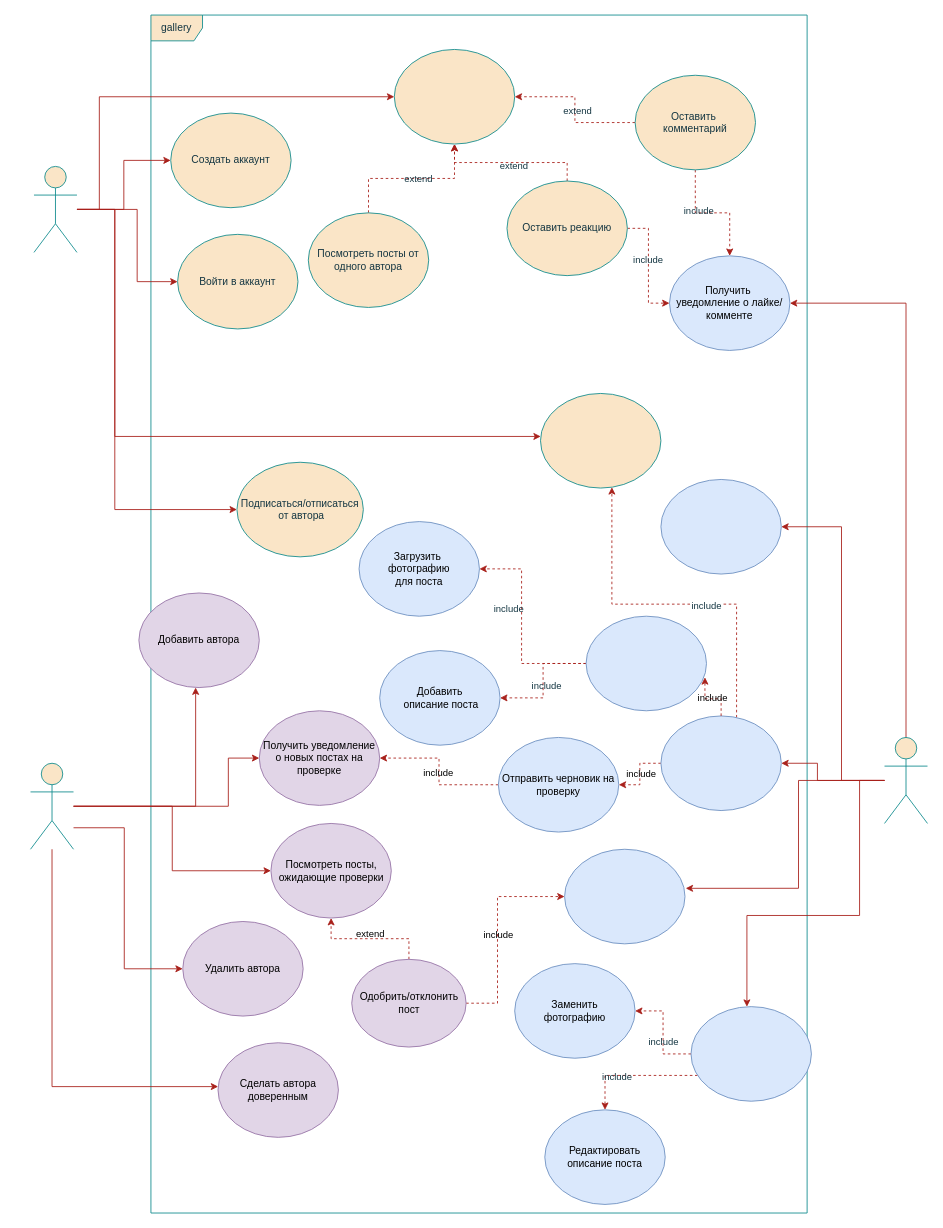
Some shapes in this 943 by 1228 pixel diagram are drawn without their labels. The centre of each missing label's shape, as x and y in pixels:
Автор: the point at 906,780
Администратор: the point at 52,805
Опубликовать пост: the point at 720,763
Получить уведомление о новом посте: the point at 600,440
Пользователь: the point at 55,209
Посмотреть новые посты: the point at 454,96
Редактировать пост: the point at 750,1053
Создать черновик поста: the point at 645,663
Удалить пост: the point at 720,526
Узнать причину отклонения поста: the point at 624,896
